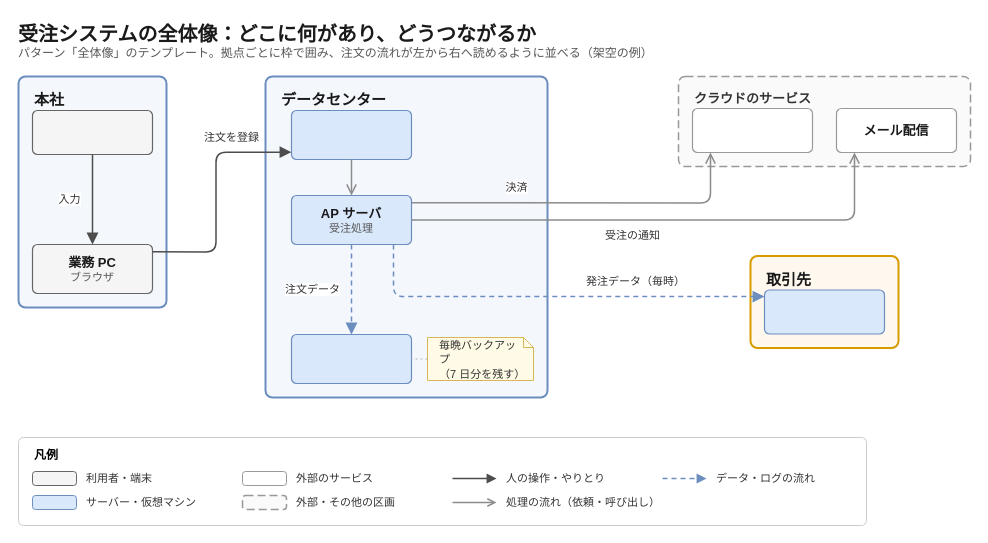
This 988x543 diagram has some shape labels left out. Here are the shapes that lost their labels. From the top down, the centre of each, then its label:
point 92,132: 営業担当
point 351,134: Web サーバ 受注画面
point 752,130: 決済サービス
point 824,311: 受発注システム
point 351,358: DB サーバ 注文・顧客
